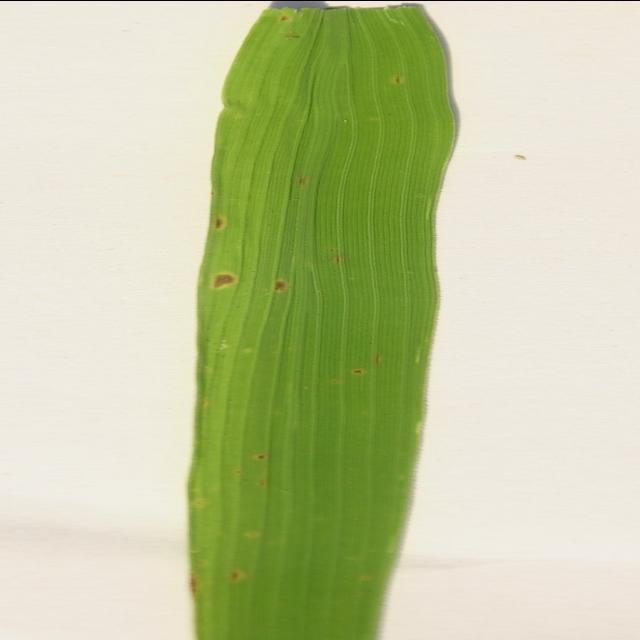Unhealthy: (209, 271, 240, 289), (272, 278, 288, 292), (227, 569, 243, 581), (213, 217, 226, 229), (297, 174, 307, 186), (191, 574, 197, 593), (371, 353, 381, 364), (254, 452, 269, 459), (393, 74, 403, 84), (282, 34, 302, 39), (191, 499, 205, 506), (278, 15, 291, 22), (257, 478, 267, 487), (350, 368, 367, 373), (246, 531, 260, 537), (333, 254, 342, 263), (358, 575, 372, 579), (328, 248, 336, 250), (235, 470, 243, 472)
